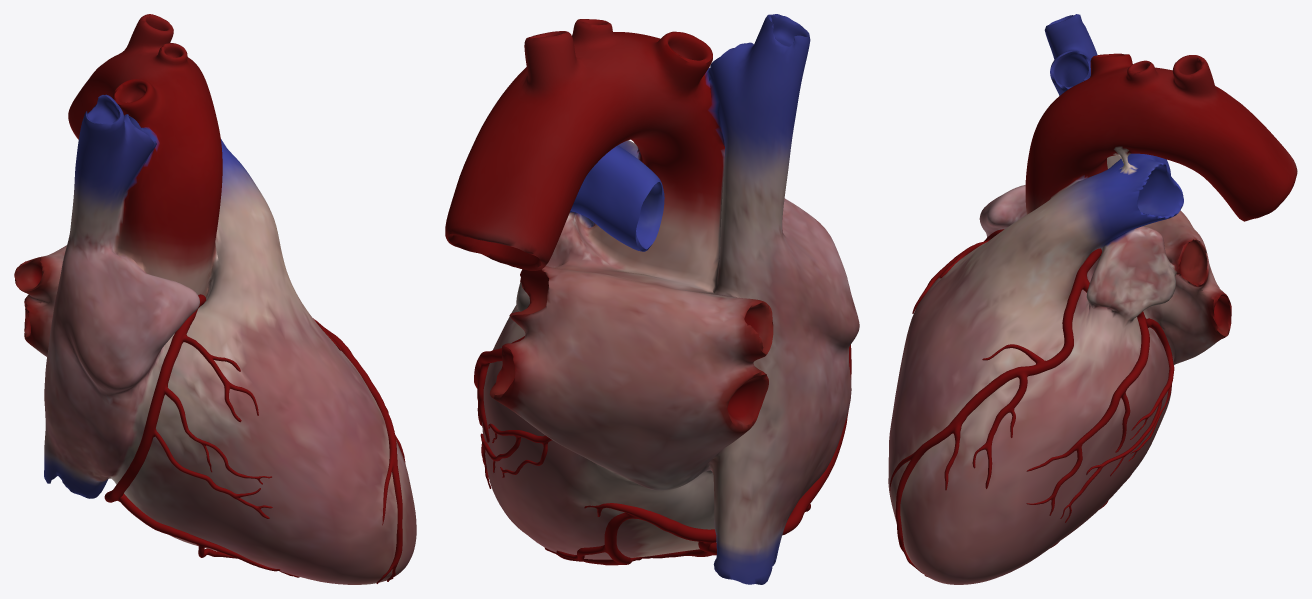
File: heart_segmented.glb
3 renders of one model, left to right at view 1: azimuth 30°, elevation 25°; view 2: azimuth 150°, elevation 25°; view 3: azimuth 270°, elevation 25°, orthographic. The views are drawn at different scales.
Parts seen in each view (by area): view 1: heart_body, RCA_mid, PLB, LAD_dist, RCA_dist, LAD_mid; view 2: heart_body, PDA, LCx, OM1, RCA_dist; view 3: heart_body, OM1, LCx, LAD_prox, LAD_dist, LAD_mid, D1, RCA_mid.
Part boxes in pixels (x1=…): heart_body: x1=14, y1=14, x2=416, y2=584; RCA_mid: x1=144, y1=329, x2=272, y2=518; PLB: x1=111, y1=491, x2=280, y2=571; LAD_dist: x1=376, y1=407, x2=402, y2=583; RCA_dist: x1=112, y1=431, x2=153, y2=497; LAD_mid: x1=330, y1=333, x2=388, y2=411; heart_body: x1=445, y1=14, x2=859, y2=584; PDA: x1=545, y1=501, x2=807, y2=565; LCx: x1=480, y1=423, x2=551, y2=488; OM1: x1=474, y1=336, x2=524, y2=442; RCA_dist: x1=799, y1=361, x2=851, y2=503; heart_body: x1=888, y1=14, x2=1297, y2=584; OM1: x1=1026, y1=318, x2=1149, y2=515; LCx: x1=1060, y1=278, x2=1174, y2=522; LAD_prox: x1=982, y1=278, x2=1084, y2=375; LAD_dist: x1=890, y1=422, x2=953, y2=573; LAD_mid: x1=949, y1=367, x2=1027, y2=433; D1: x1=972, y1=375, x2=1028, y2=488; RCA_mid: x1=912, y1=235, x2=989, y2=313.
Size of the model in its own units: 0.1442 by 0.2358 by 0.1832.
